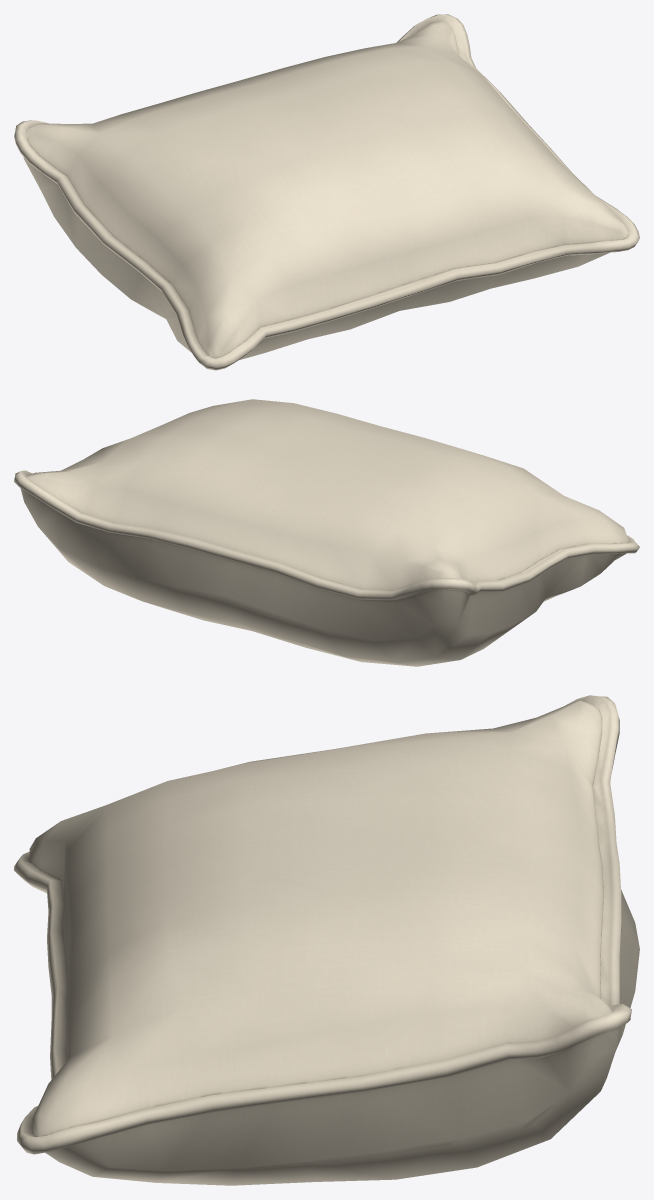
File: pillow.glb
3 views of the same model, one above another, from view 1: azimuth 30°, elevation 25°; view 2: azimuth 150°, elevation 25°; view 3: azimuth 270°, elevation 25° (orthographic). The views are drawn at different scales.
Parts seen in each view (by area): view 1: pillow; view 2: pillow; view 3: pillow.
Boxes of the visible parts, x1=… form: pillow: x1=14, y1=14, x2=639, y2=370; pillow: x1=14, y1=399, x2=639, y2=666; pillow: x1=14, y1=695, x2=639, y2=1185.
Size of the model in its own units: 0.9941 by 0.334 by 0.7813.
1 material, 1 textured.
